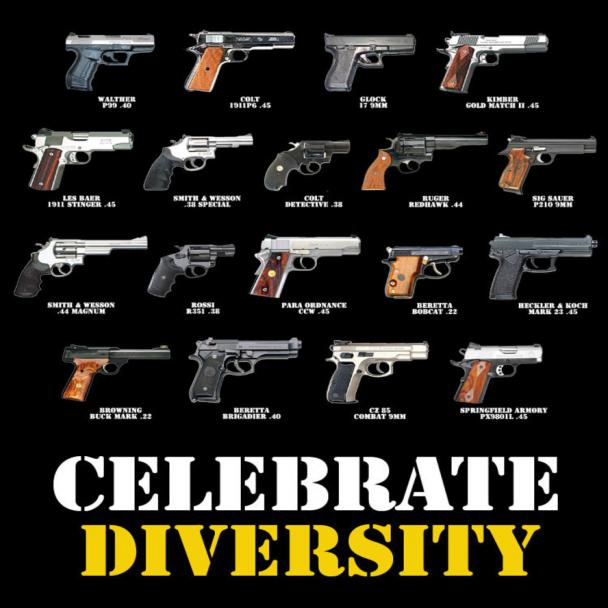Gun: (12, 230, 151, 305), (360, 123, 490, 191), (187, 337, 309, 408), (244, 232, 366, 301), (184, 27, 302, 98), (487, 231, 602, 303), (53, 340, 178, 404), (436, 26, 552, 92), (143, 125, 253, 194), (24, 125, 138, 191), (446, 338, 554, 407), (499, 123, 601, 195), (320, 337, 430, 403), (60, 27, 162, 93), (144, 233, 240, 301), (319, 27, 418, 91), (378, 240, 469, 302), (262, 125, 340, 193)
